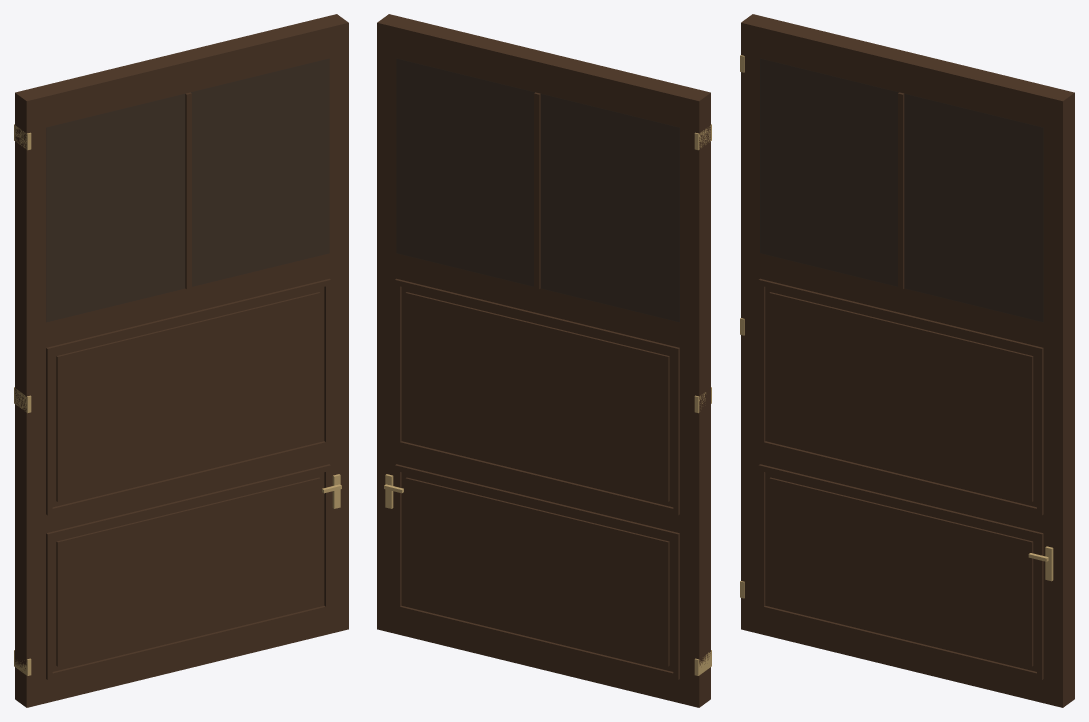
File: SM_Kapi_Ana.fbx
3 views of the same model, side by side, from view 1: azimuth 30°, elevation 25°; view 2: azimuth 150°, elevation 25°; view 3: azimuth 330°, elevation 25° (orthographic).
Visible parts, largest first — view 1: Kapi_Ana; view 2: Kapi_Ana; view 3: Kapi_Ana.
Part boxes in pixels (x1,y1,x2,y2): Kapi_Ana: (14,14,348,707); Kapi_Ana: (377,14,711,707); Kapi_Ana: (740,14,1074,707).
Bounding box in the file's own units: 250 × 450 × 28.5.
